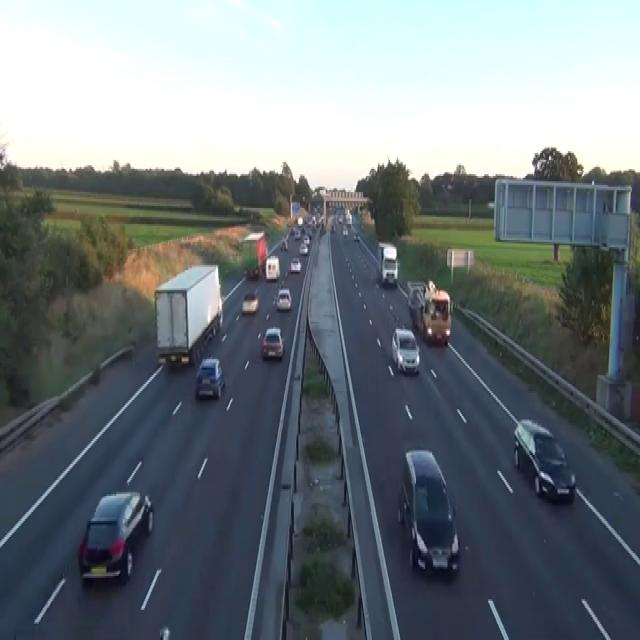Car: (397, 448, 460, 576), (77, 489, 154, 585), (513, 418, 575, 503), (391, 327, 420, 373), (195, 356, 225, 398), (407, 284, 425, 329), (262, 327, 283, 359), (241, 292, 259, 314), (406, 279, 427, 295), (276, 288, 291, 309), (290, 256, 301, 272), (246, 267, 259, 279), (159, 626, 170, 638), (280, 238, 288, 251), (299, 244, 308, 254), (293, 229, 300, 240), (320, 224, 326, 235), (272, 292, 276, 306), (304, 234, 310, 243), (342, 226, 348, 234), (338, 215, 343, 224), (353, 233, 359, 240), (330, 226, 335, 233)
Truck: (153, 263, 223, 366), (407, 279, 451, 345), (239, 229, 267, 279), (376, 242, 398, 286), (265, 254, 280, 281), (345, 208, 352, 226)
